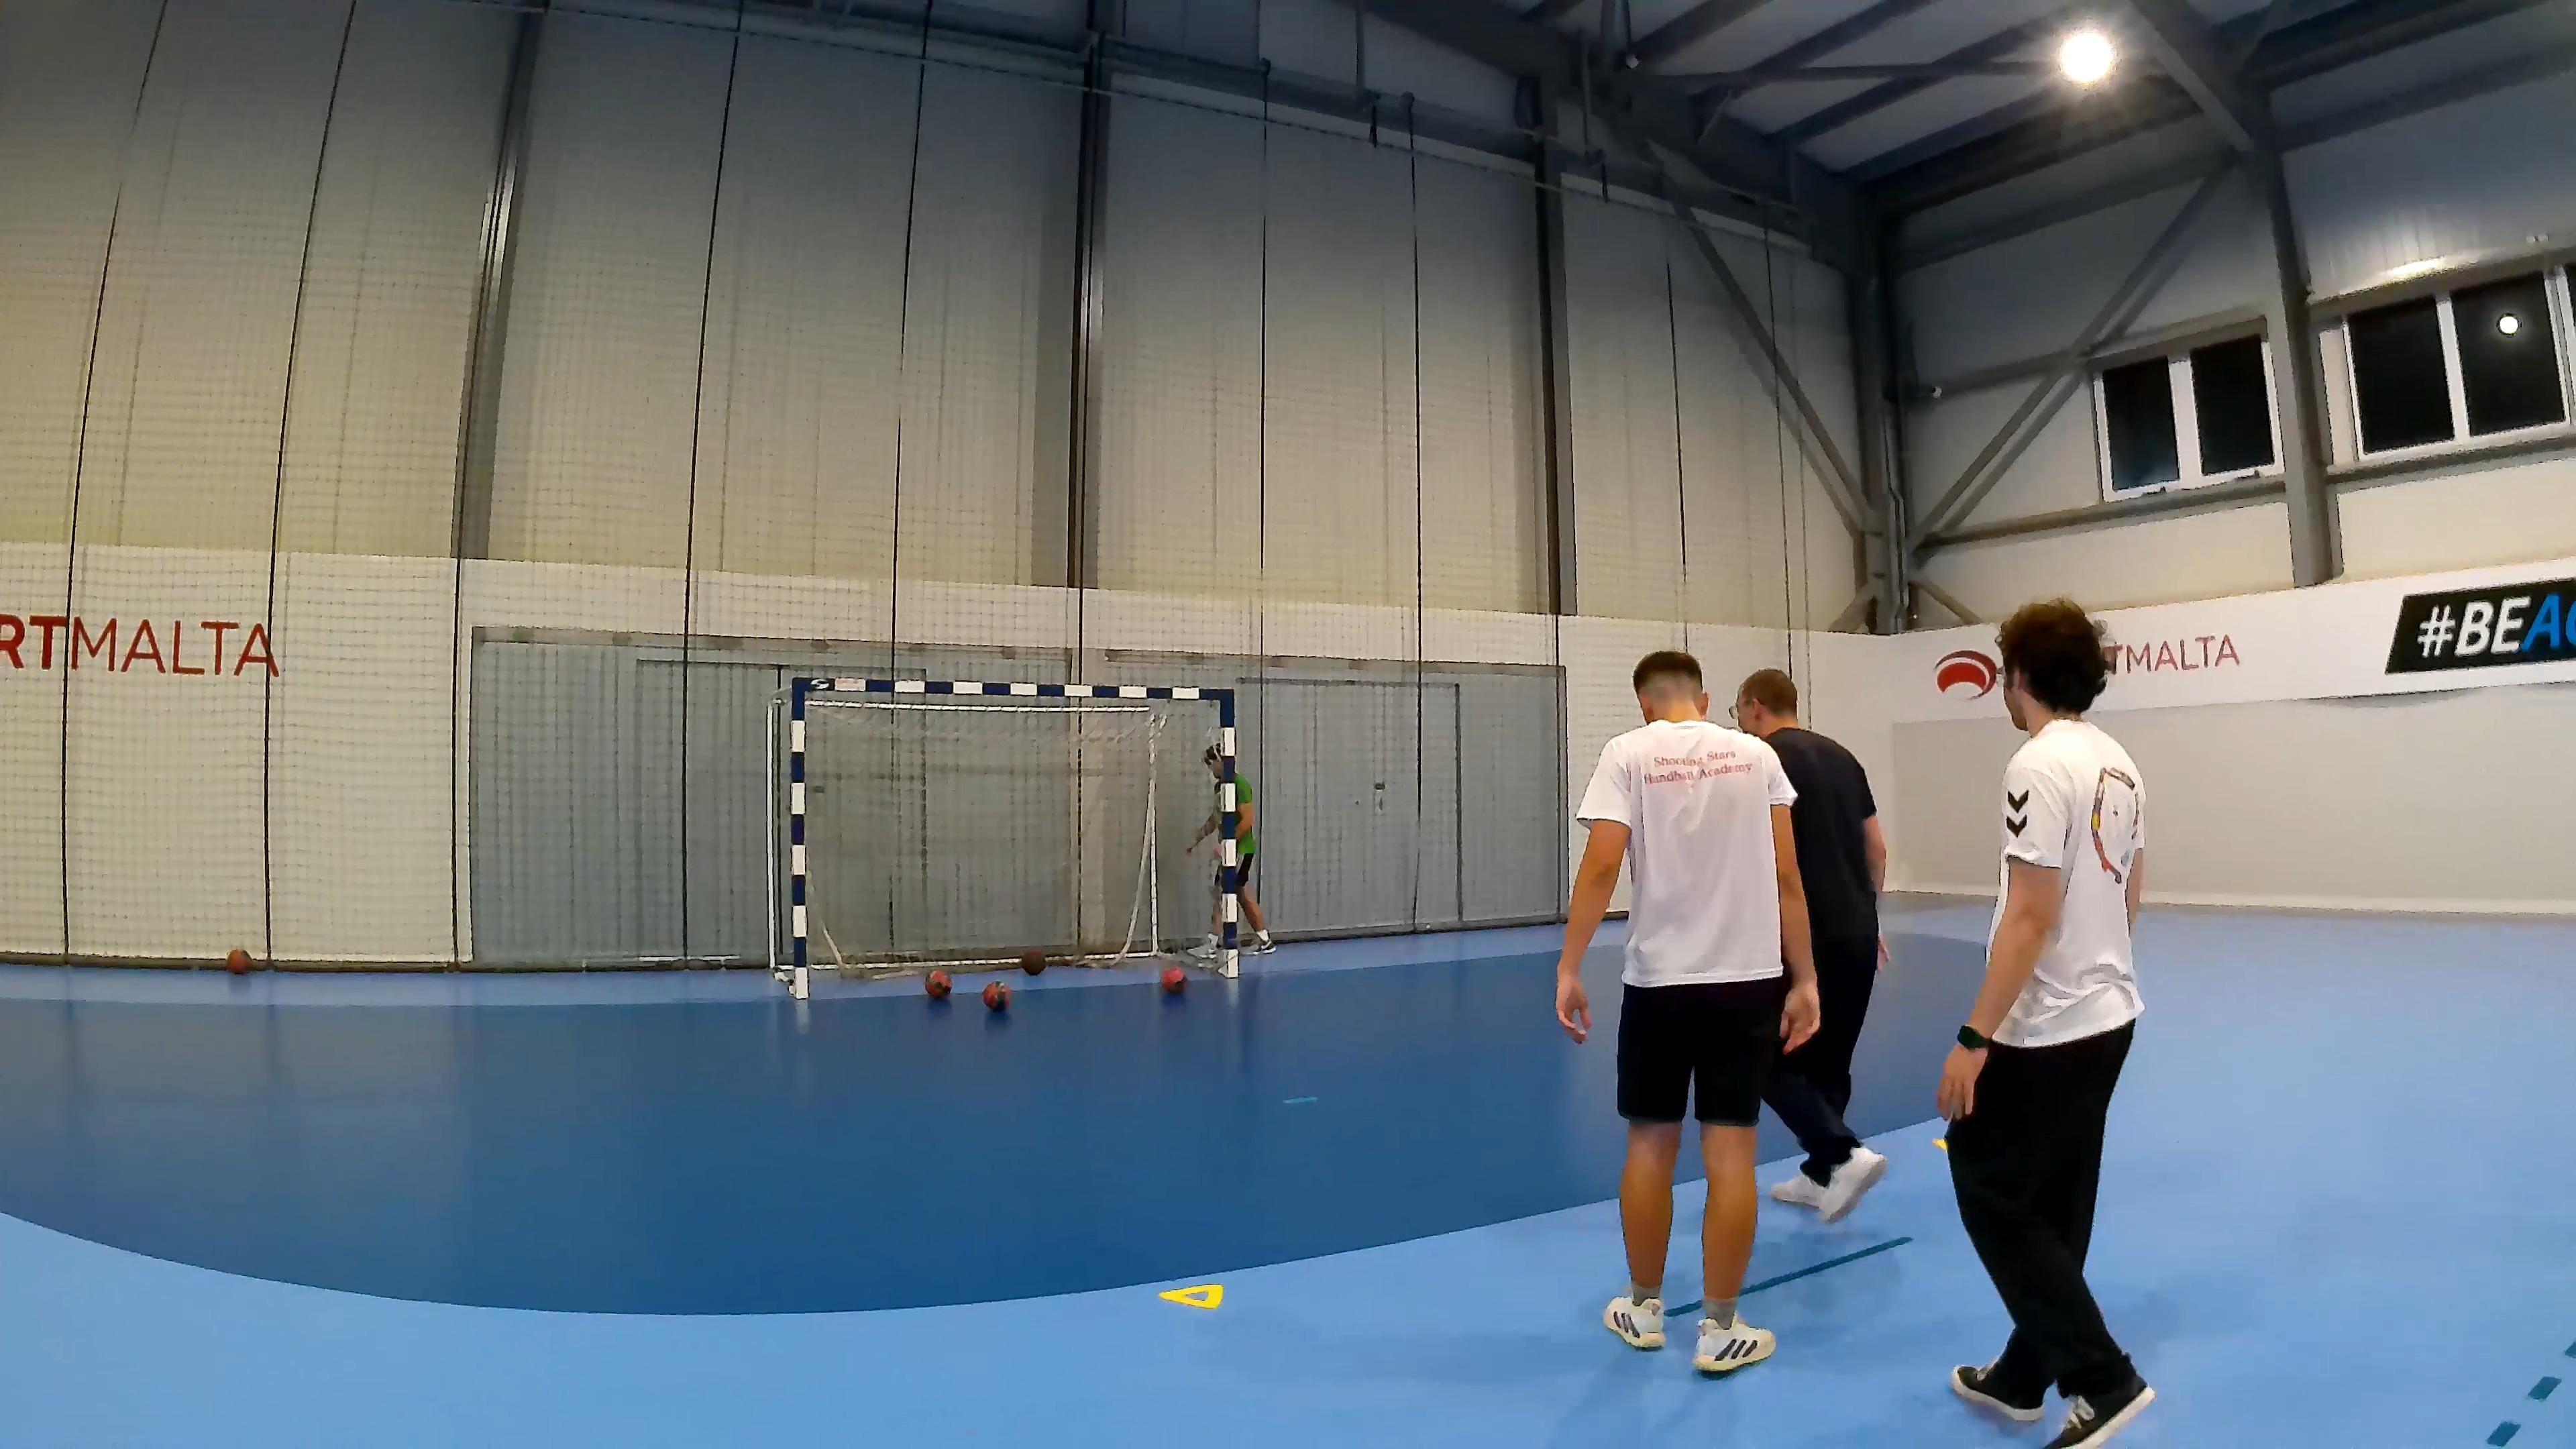handball: (980, 980, 1008, 1010), (924, 966, 950, 998), (1019, 948, 1044, 975), (1161, 964, 1185, 989)
